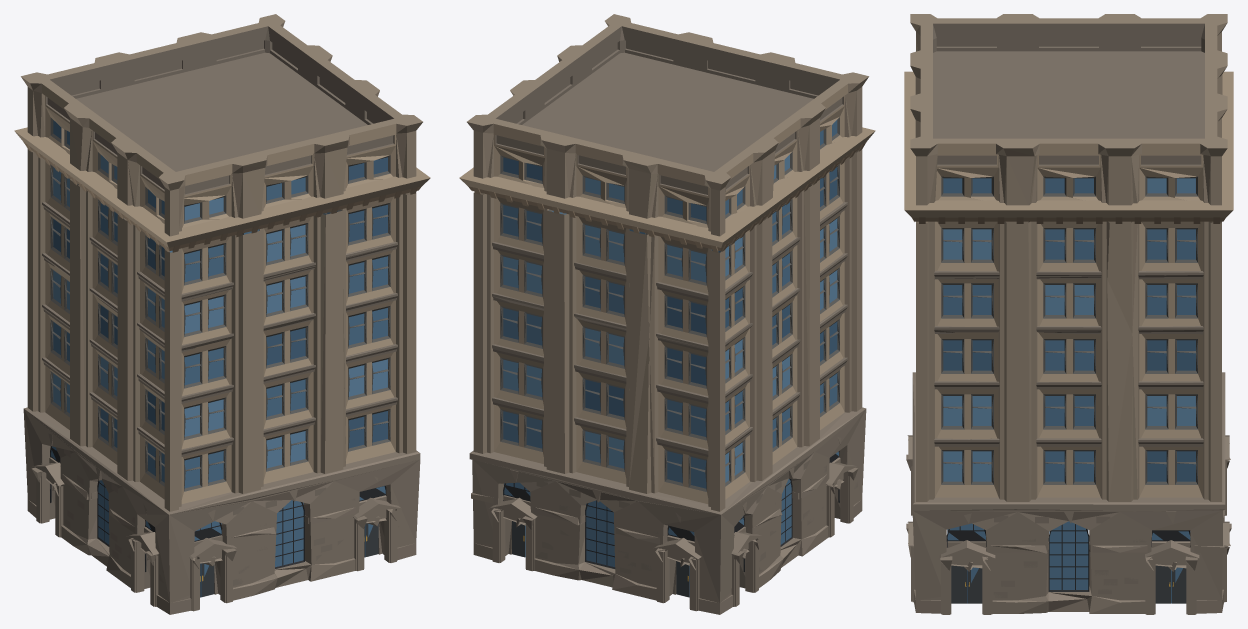
Rendered from sc-office-c-lod1.glb.
The picture shows the model from 3 angles, left to right: view 1: azimuth 30°, elevation 25°; view 2: azimuth 150°, elevation 25°; view 3: azimuth 270°, elevation 25°; orthographic projection. The views are drawn at different scales.
Parts seen in each view (by area): view 1: SM_Bld_OfficeOld_Large_01; view 2: SM_Bld_OfficeOld_Large_01; view 3: SM_Bld_OfficeOld_Large_01.
Boxes of the visible parts, x1=… form: SM_Bld_OfficeOld_Large_01: x1=14, y1=14, x2=430, y2=614; SM_Bld_OfficeOld_Large_01: x1=459, y1=14, x2=875, y2=614; SM_Bld_OfficeOld_Large_01: x1=904, y1=14, x2=1233, y2=614.
Size of the model in its own units: 22.93 by 36 by 22.99.
1 material, 1 textured.
